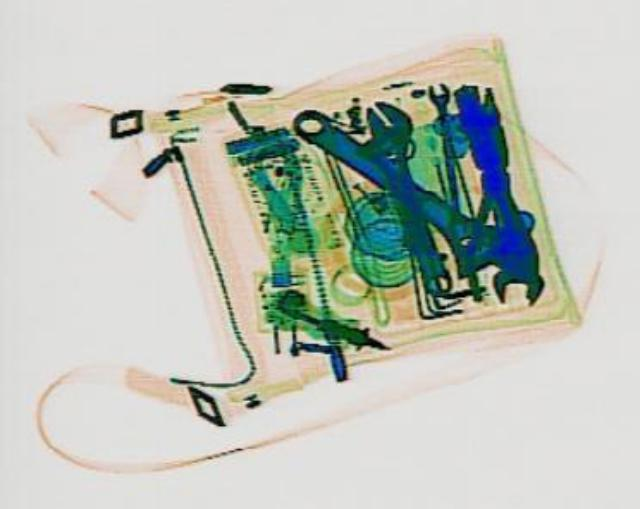Wrench: (262, 92, 554, 305), (439, 79, 547, 306), (356, 94, 466, 287), (420, 79, 460, 148)
